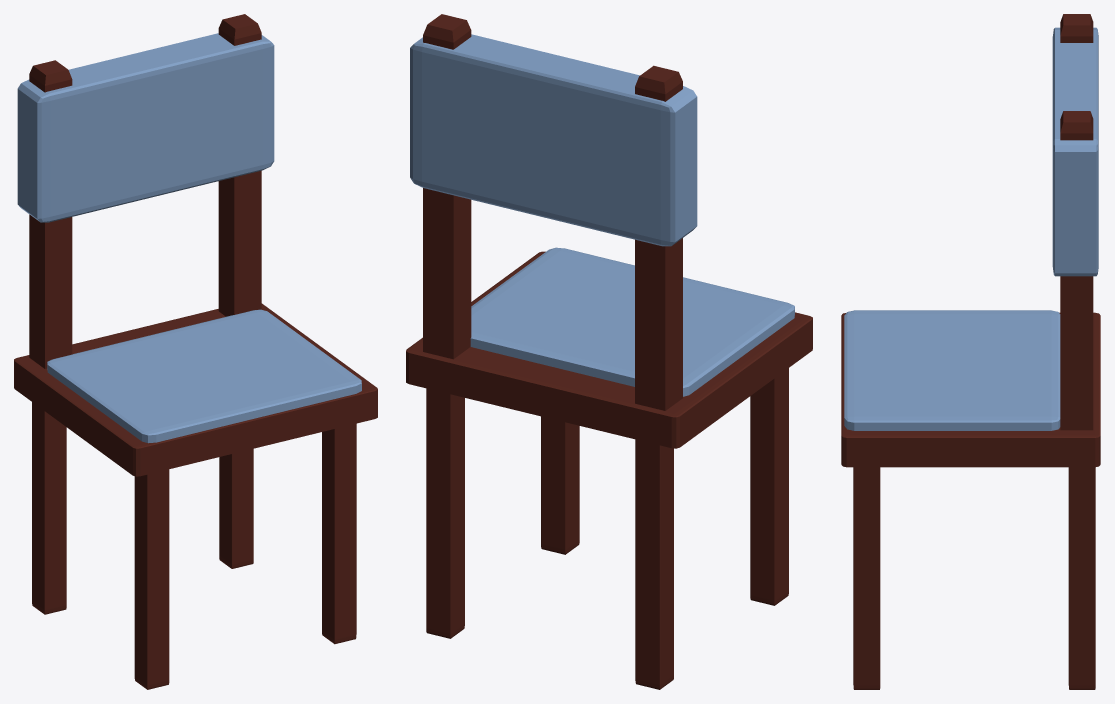
The model's file is Cadeira.fbx.
3 renders of one model, left to right at view 1: azimuth 30°, elevation 25°; view 2: azimuth 150°, elevation 25°; view 3: azimuth 270°, elevation 25°, orthographic. The views are drawn at different scales.
Visible parts, largest first — view 1: Cube.003, Cube, Cube.004, Cube.001, Cube.002; view 2: Cube.003, Cube, Cube.004, Cube.001, Cube.002; view 3: Cube.004, Cube, Cube.001, Cube.003, Cube.002.
Boxes of the visible parts, <box> form: Cube.003: <box>17,33,274,222</box>; Cube: <box>32,402,356,689</box>; Cube.004: <box>47,309,361,443</box>; Cube.001: <box>14,303,377,476</box>; Cube.002: <box>29,14,261,368</box>; Cube.003: <box>410,34,697,246</box>; Cube: <box>426,368,788,689</box>; Cube.004: <box>470,247,794,396</box>; Cube.001: <box>406,251,812,448</box>; Cube.002: <box>423,14,682,410</box>; Cube.004: <box>844,310,1060,430</box>; Cube: <box>853,467,1095,689</box>; Cube.001: <box>841,312,1100,467</box>; Cube.003: <box>1052,27,1098,276</box>; Cube.002: <box>1060,14,1093,430</box>.
Size of the model in its own units: 26.82 by 56.78 by 23.45.
